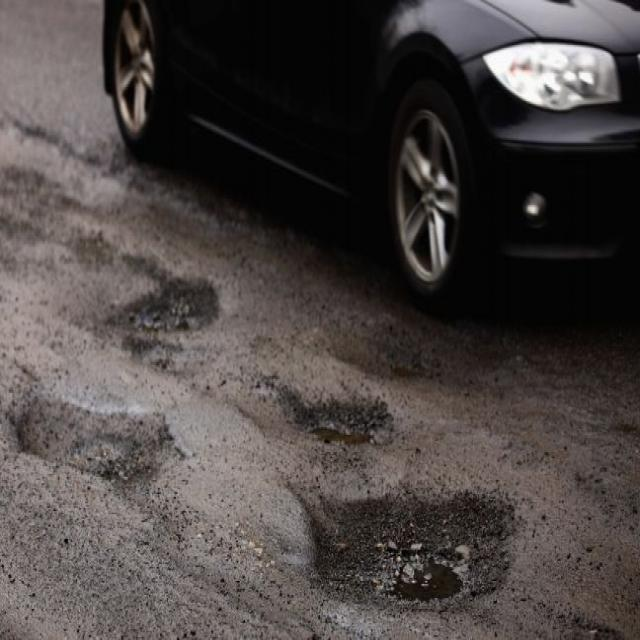pothole: (291, 476, 528, 622), (10, 384, 189, 491), (105, 262, 224, 340), (286, 391, 394, 449)
